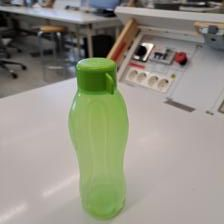bottle: (69, 54, 133, 216)
